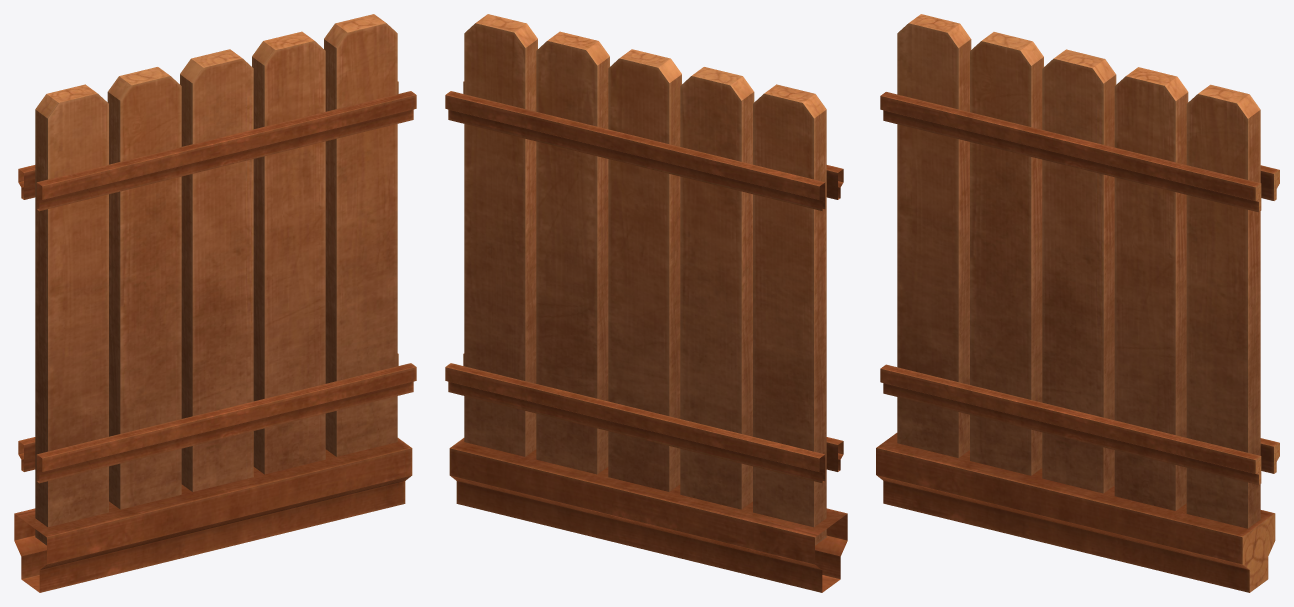
File: Half panel 1.fbx
The picture shows the model from 3 angles, left to right: view 1: azimuth 30°, elevation 25°; view 2: azimuth 150°, elevation 25°; view 3: azimuth 330°, elevation 25°; orthographic projection.
Parts seen in each view (by area): view 1: Fence1_Short_Left; view 2: Fence1_Short_Left; view 3: Fence1_Short_Left.
Boxes of the visible parts, x1,y1,x2,y2 form: Fence1_Short_Left: (14, 14, 416, 592); Fence1_Short_Left: (445, 14, 847, 592); Fence1_Short_Left: (876, 14, 1279, 592).
Size of the model in its own units: 91.54 by 113 by 13.84.
